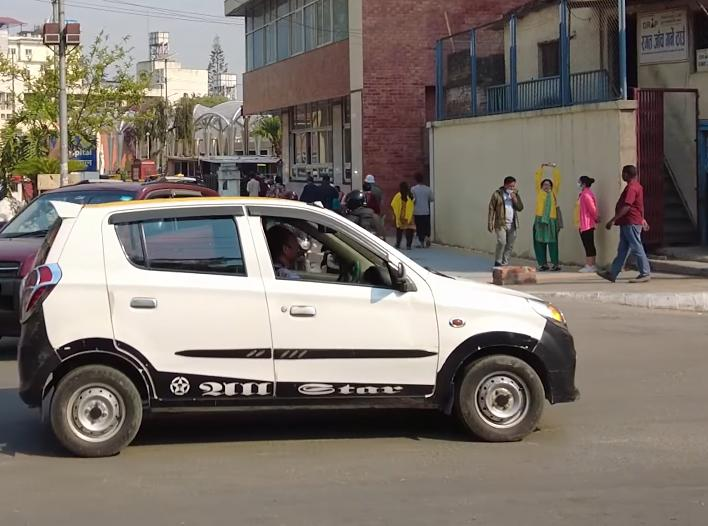taxi: (8, 178, 597, 458)
